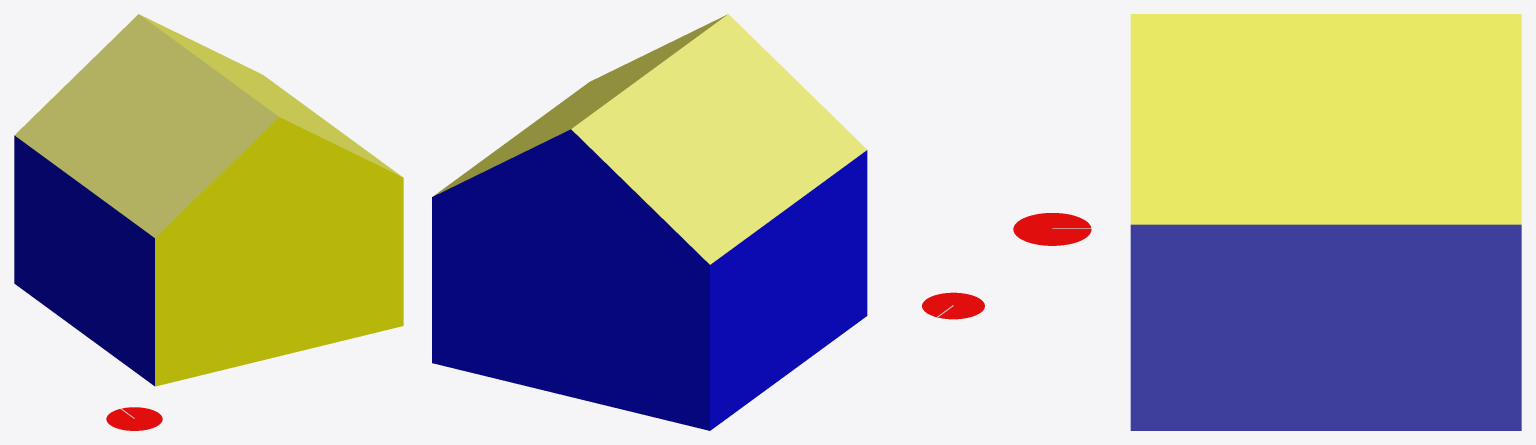
File: result.glb
3 renders of one model, left to right at view 1: azimuth 30°, elevation 25°; view 2: azimuth 150°, elevation 25°; view 3: azimuth 270°, elevation 25°, orthographic. The views are drawn at different scales.
Visible parts, largest first — view 1: 141b888c-dc2f-4aaf-ab8a-7a961462866c__undefined, efd4fbe5-b593-4c91-9474-a75b70e4dbf8__undefined, 5a31bf9b-163b-461c-a9ed-ca14fa5454c1__undefined, 76295e6d-96ad-4e6e-8193-5baebe8a274a__undefined, 0c824567-39bd-4d26-98ef-157fa6433bfe__Circle; view 2: adb9376a-7ad9-4604-8f1a-19f87e7b22b2__undefined, efd4fbe5-b593-4c91-9474-a75b70e4dbf8__undefined, 5a31bf9b-163b-461c-a9ed-ca14fa5454c1__undefined, 76295e6d-96ad-4e6e-8193-5baebe8a274a__undefined, 0c824567-39bd-4d26-98ef-157fa6433bfe__Circle; view 3: 76295e6d-96ad-4e6e-8193-5baebe8a274a__undefined, 8277913d-d26b-46cf-8969-622052f1a379__undefined, 0c824567-39bd-4d26-98ef-157fa6433bfe__Circle.
Part boxes in pixels (box(x1,y1,x2,y2)): 141b888c-dc2f-4aaf-ab8a-7a961462866c__undefined: box(155, 117, 403, 386); efd4fbe5-b593-4c91-9474-a75b70e4dbf8__undefined: box(14, 14, 278, 237); 5a31bf9b-163b-461c-a9ed-ca14fa5454c1__undefined: box(14, 135, 154, 386); 76295e6d-96ad-4e6e-8193-5baebe8a274a__undefined: box(139, 14, 401, 176); 0c824567-39bd-4d26-98ef-157fa6433bfe__Circle: box(106, 407, 162, 430); adb9376a-7ad9-4604-8f1a-19f87e7b22b2__undefined: box(432, 129, 709, 430); efd4fbe5-b593-4c91-9474-a75b70e4dbf8__undefined: box(571, 14, 867, 264); 5a31bf9b-163b-461c-a9ed-ca14fa5454c1__undefined: box(710, 150, 867, 430); 76295e6d-96ad-4e6e-8193-5baebe8a274a__undefined: box(433, 14, 727, 196); 0c824567-39bd-4d26-98ef-157fa6433bfe__Circle: box(922, 292, 984, 319); 76295e6d-96ad-4e6e-8193-5baebe8a274a__undefined: box(1130, 14, 1521, 224); 8277913d-d26b-46cf-8969-622052f1a379__undefined: box(1130, 224, 1521, 430); 0c824567-39bd-4d26-98ef-157fa6433bfe__Circle: box(1013, 213, 1091, 245).
Bounding box in the file's own units: 660 × 469 × 650.
